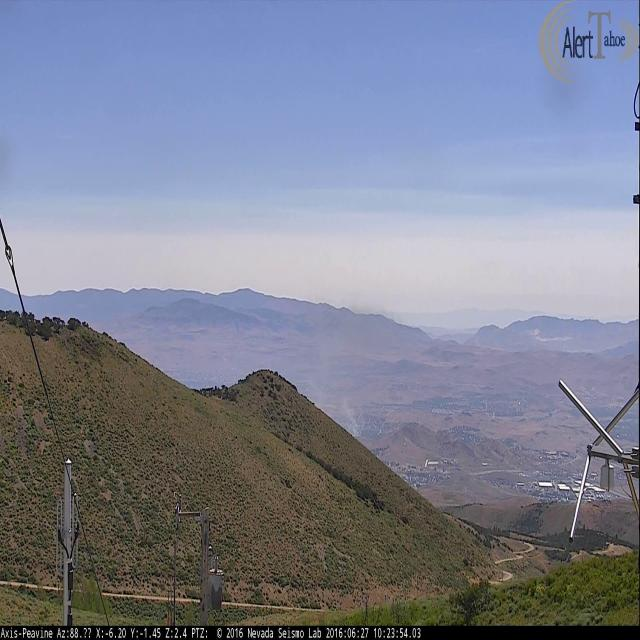smoke: (311, 297, 401, 446)
